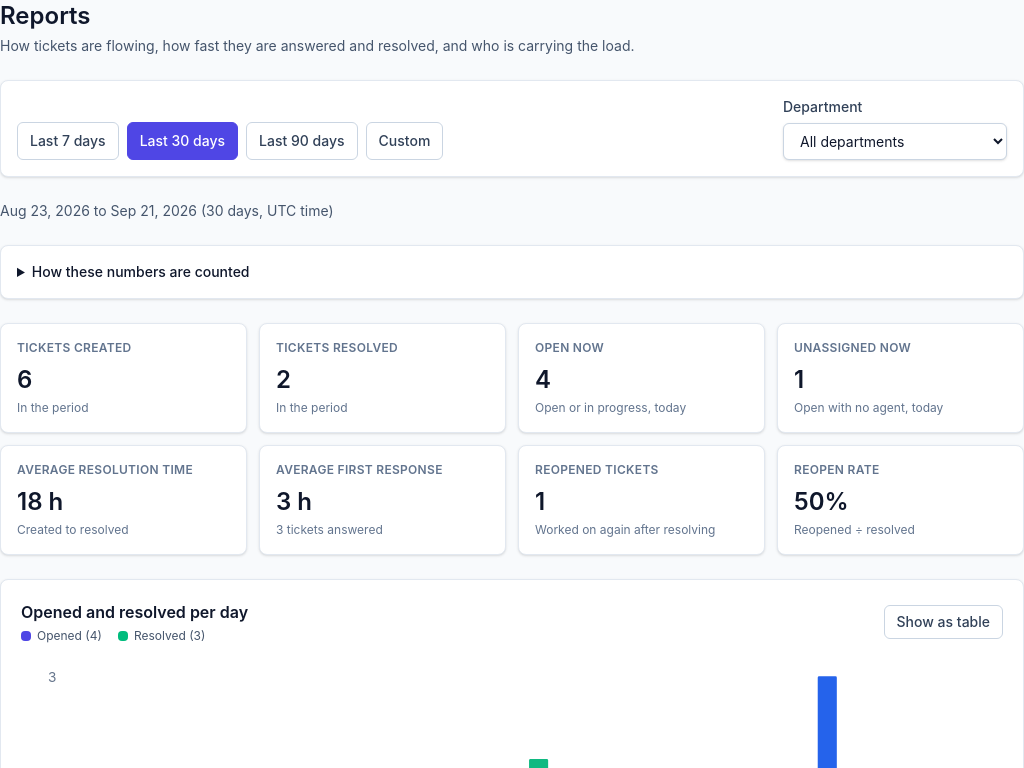
Test: ReportsPage › keeps the old figures on screen while newer ones load
The image size is (1024, 768).
Expected: the text "Tickets created" is shown, [17,340,132,355]
Click the button "Last 90 days": (302, 141) [246,122,358,160]
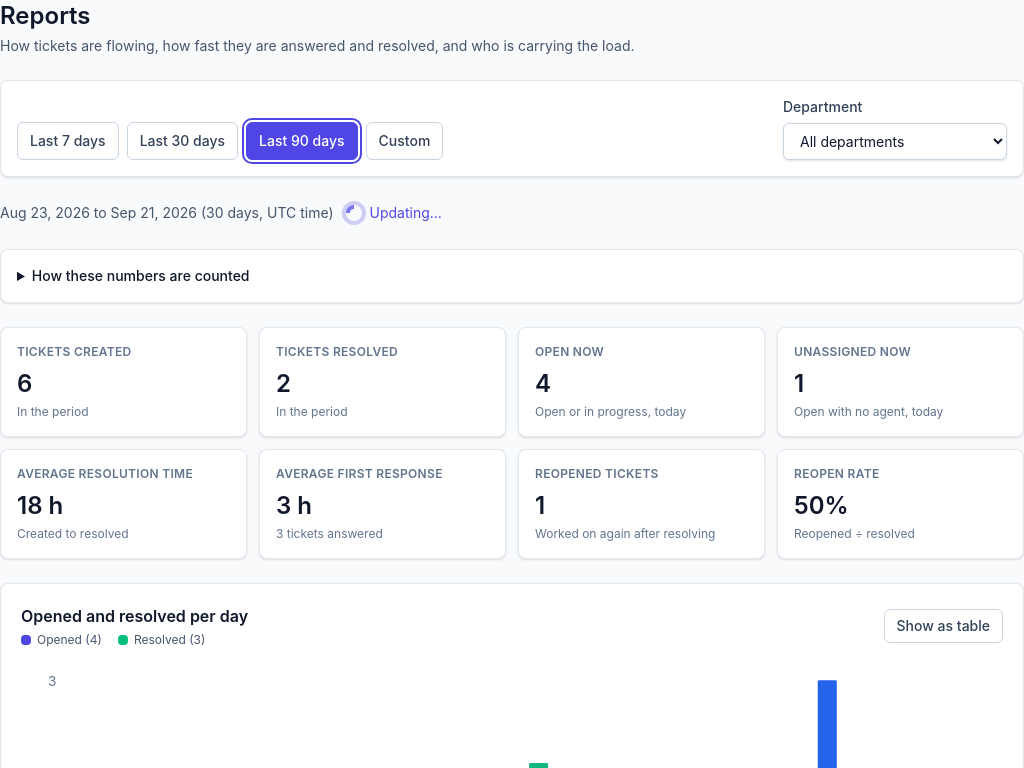
Expected: the text "Tickets created" is shown, [17,344,132,359]
Expected: the text "Updating…" is shown, [342,201,442,225]
